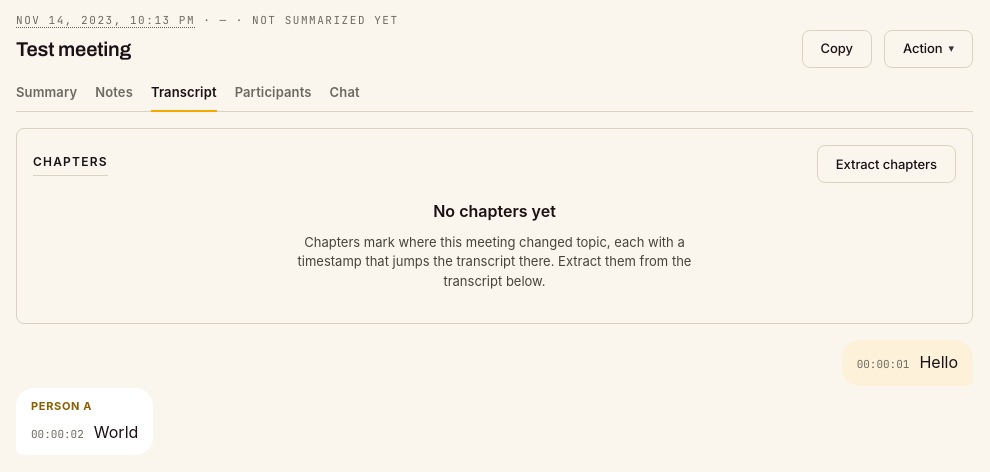
diarization_unavailable banner in SummaryPane › names the OS error when the model is there but unreadable
Click the text "participants" at (273, 92), box [235, 82, 312, 103]
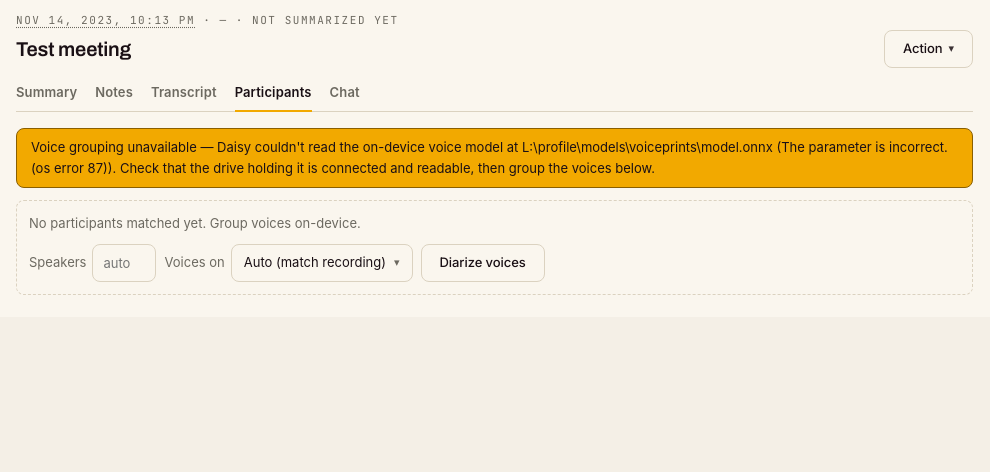
Expected: the text with test id "diarization-unavailable-banner" does not show "missing", [16, 128, 973, 188]
Result: the text with test id "diarization-unavailable-banner" shows "couldn't read the on-device voice model" at [31, 139, 948, 176]
Result: the text with test id "diarization-unavailable-banner" shows "(os error 87)" at [31, 139, 948, 176]
